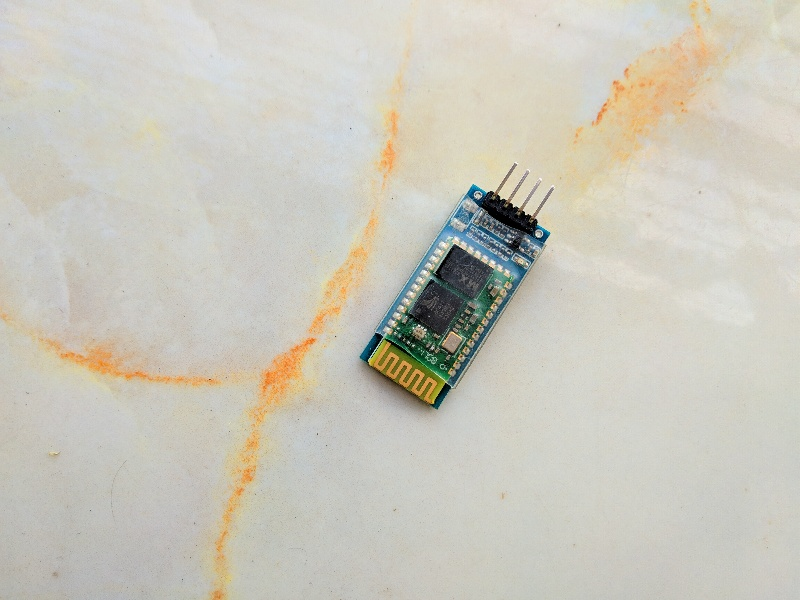HC-05: (351, 181, 554, 413)
